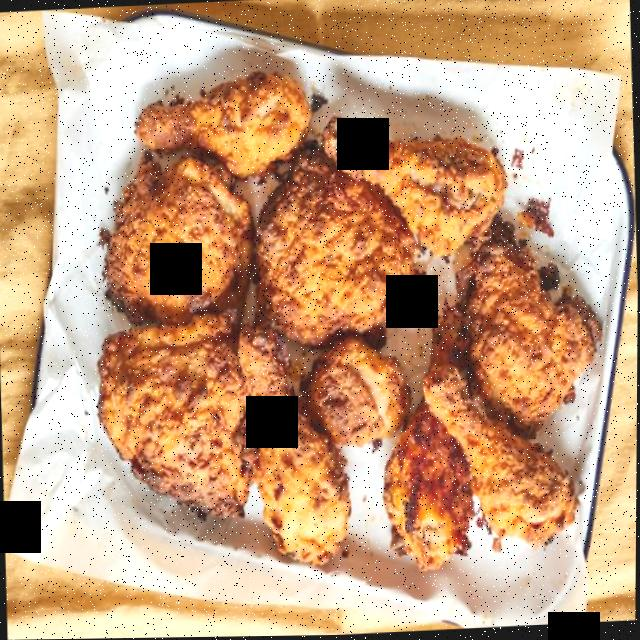Frango: (83, 54, 610, 593)
